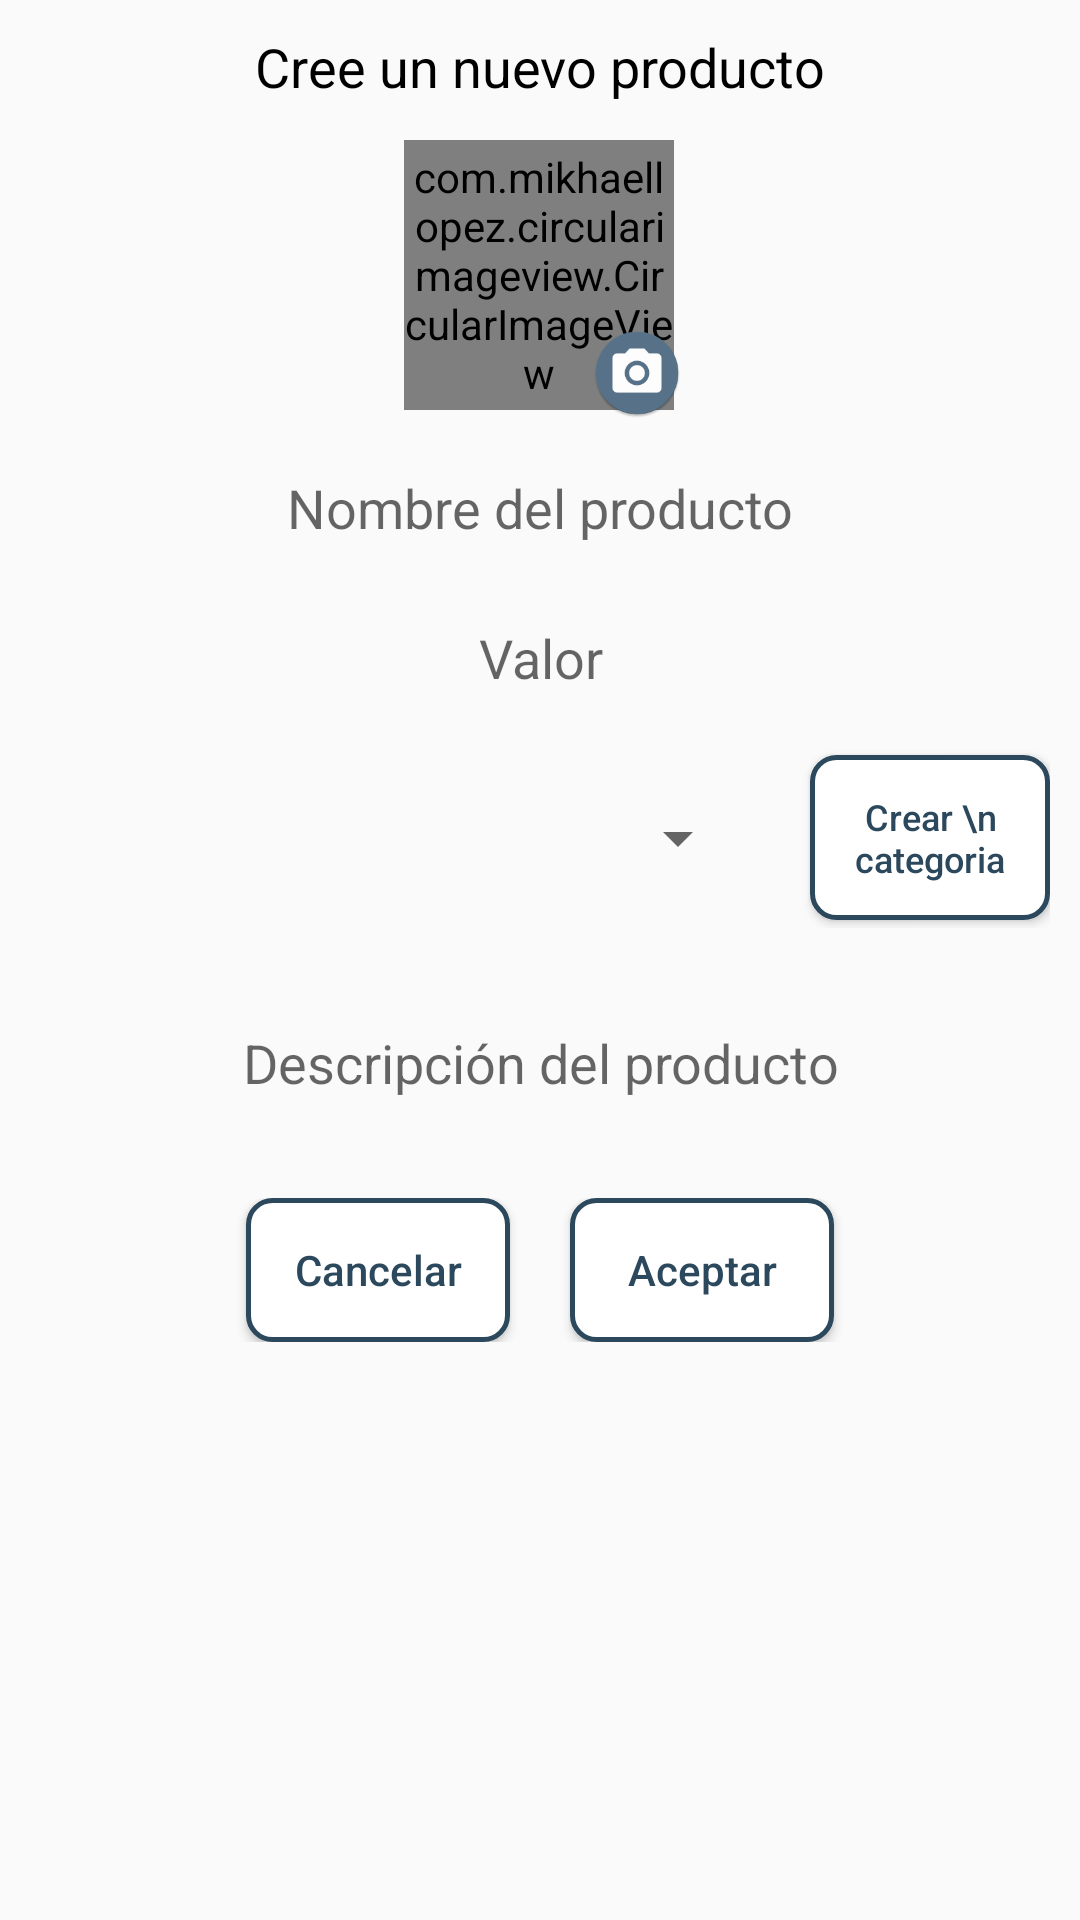

Icon click points for this 1080 × 1920 phone screenshot, format (x=x, y=y):
camera circle: (x=637, y=373)
